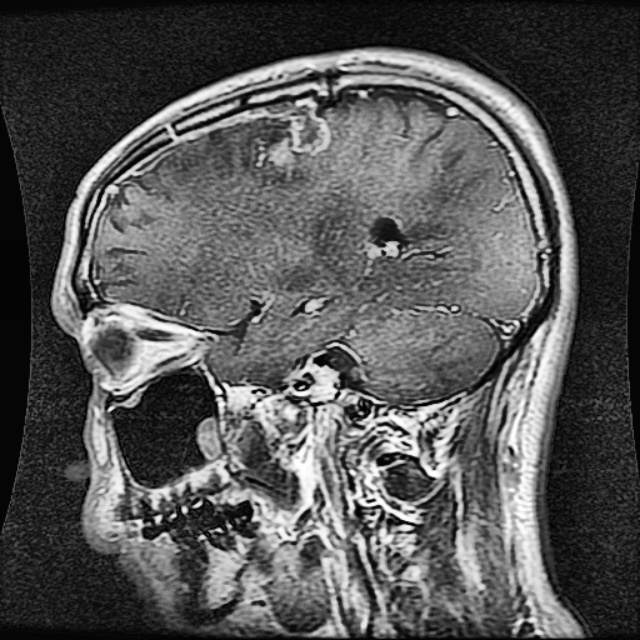Meningioma: (267, 105, 329, 165)
